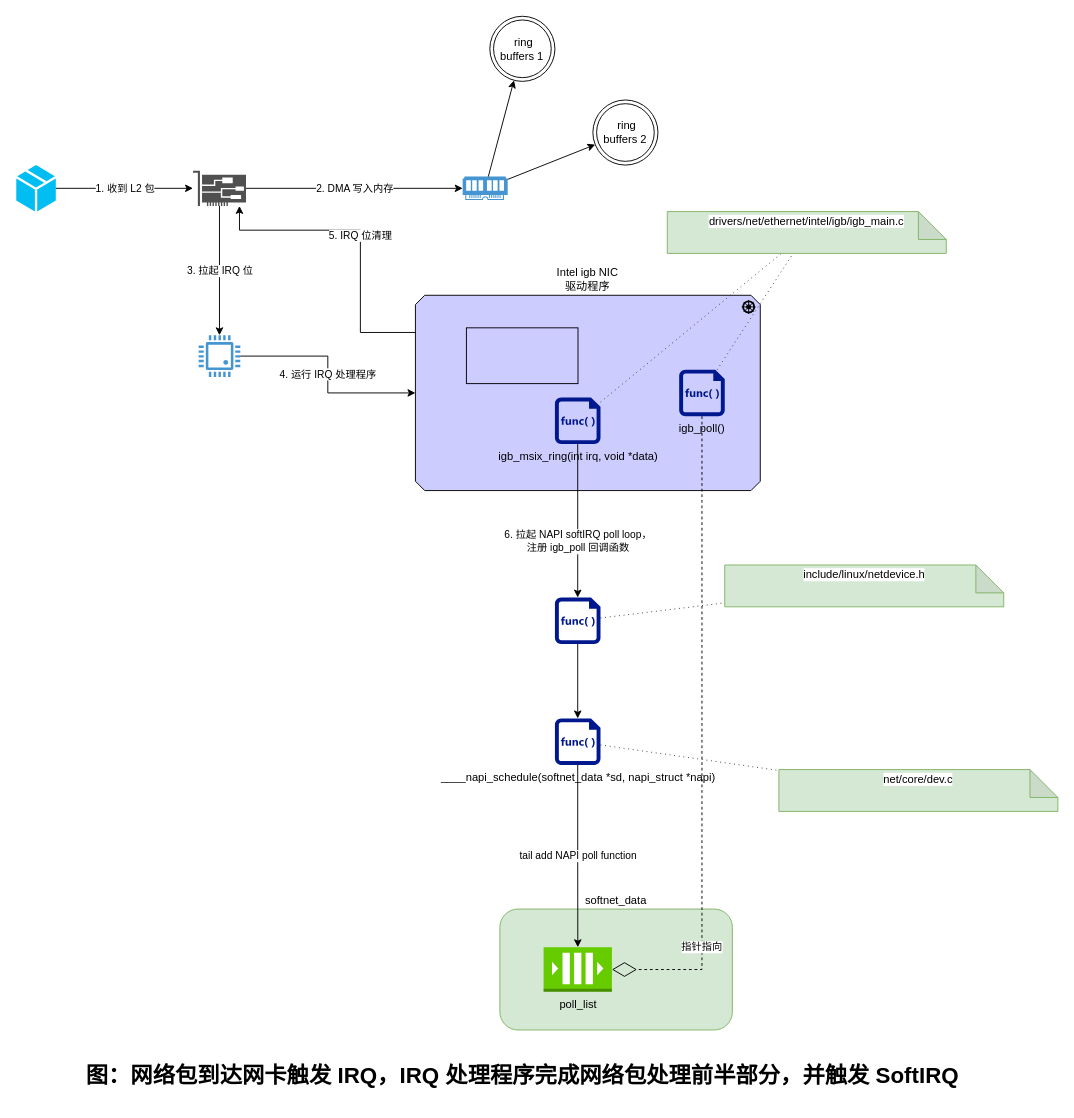
Image size: 1074x1118. Some labels were removed from this diagram. The centre of each missing label's shape, as x and y in pixels:
"CPU" goes at point (219, 355).
"multiqueue NIC" goes at point (219, 188).
"napi_schedule(struct napi_struct *n)" goes at point (577, 620).
"q_vector[i]->napi)" goes at point (521, 355).
"内存" goes at point (484, 188).
